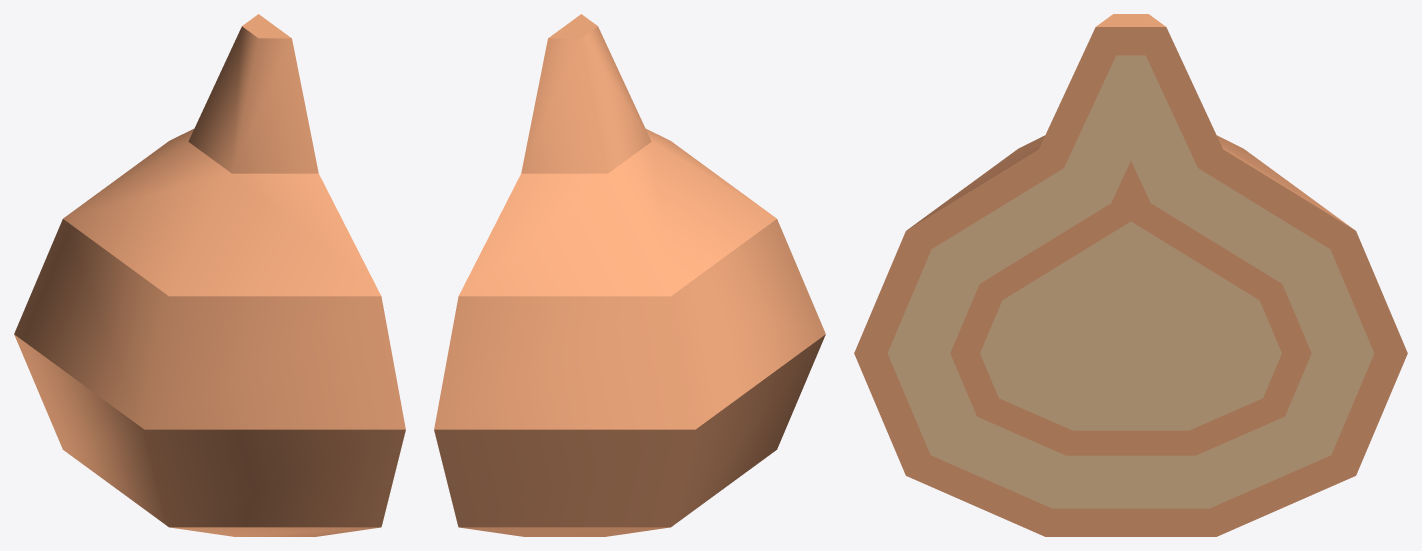
File: onionHalf.obj
3 renders of one model, left to right at view 1: azimuth 30°, elevation 25°; view 2: azimuth 150°, elevation 25°; view 3: azimuth 270°, elevation 25°, orthographic. The views are drawn at different scales.
Parts seen in each view (by area): view 1: onionHalf; view 2: onionHalf; view 3: onionHalf.
Part boxes in pixels (left/top/right/bottom): onionHalf: left=14, top=14, right=405, bottom=536; onionHalf: left=434, top=14, right=825, bottom=536; onionHalf: left=854, top=14, right=1407, bottom=536.
Size of the model in its own units: 0.1065 by 0.25 by 0.246.
